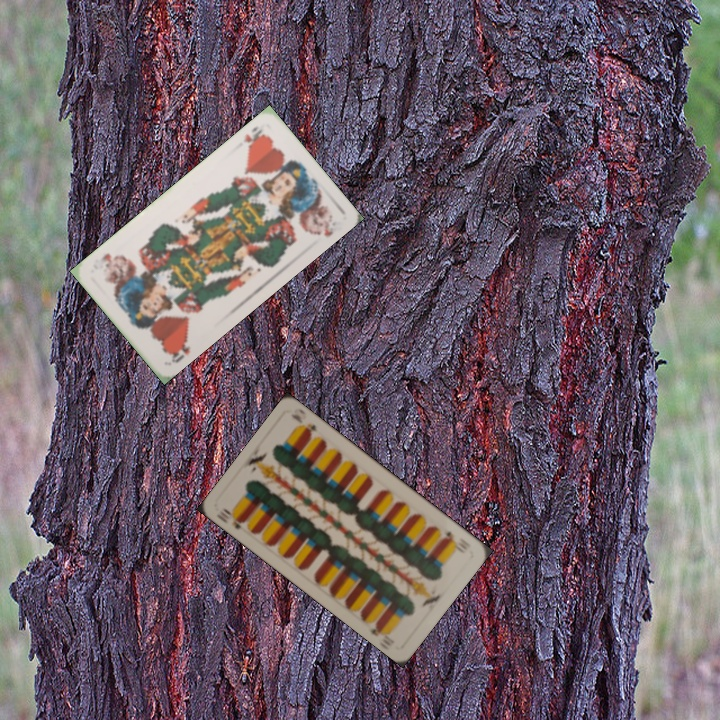E10: (219, 504, 248, 532), (440, 527, 469, 552)
HO: (239, 122, 267, 152), (166, 336, 193, 366)
